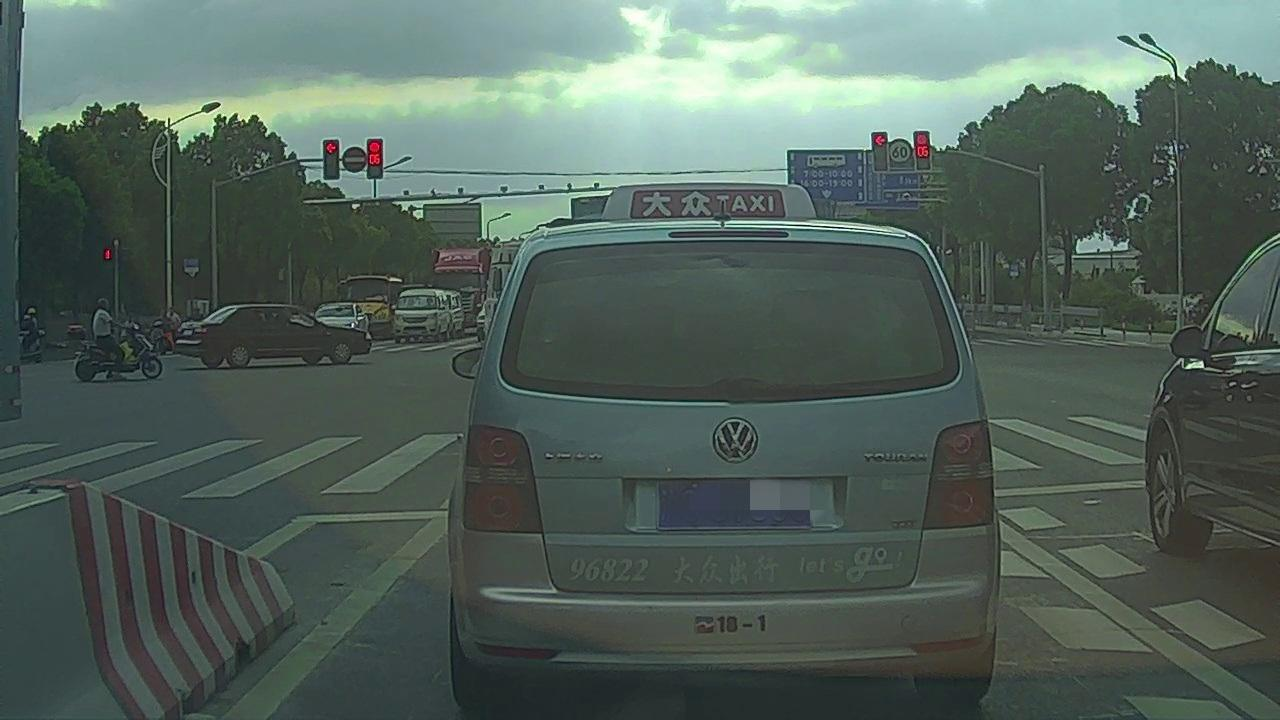traffic_light: (365, 139, 382, 179), (912, 130, 929, 170), (870, 132, 887, 171), (323, 140, 339, 180)
